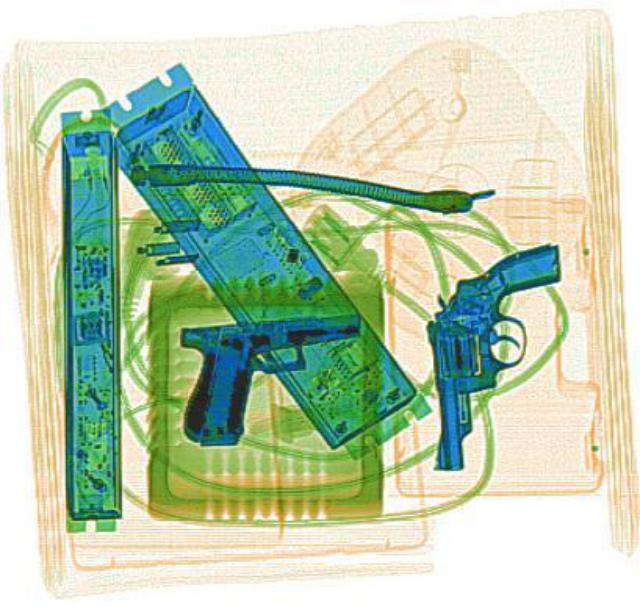Gun: (419, 240, 573, 469), (168, 309, 372, 448)
